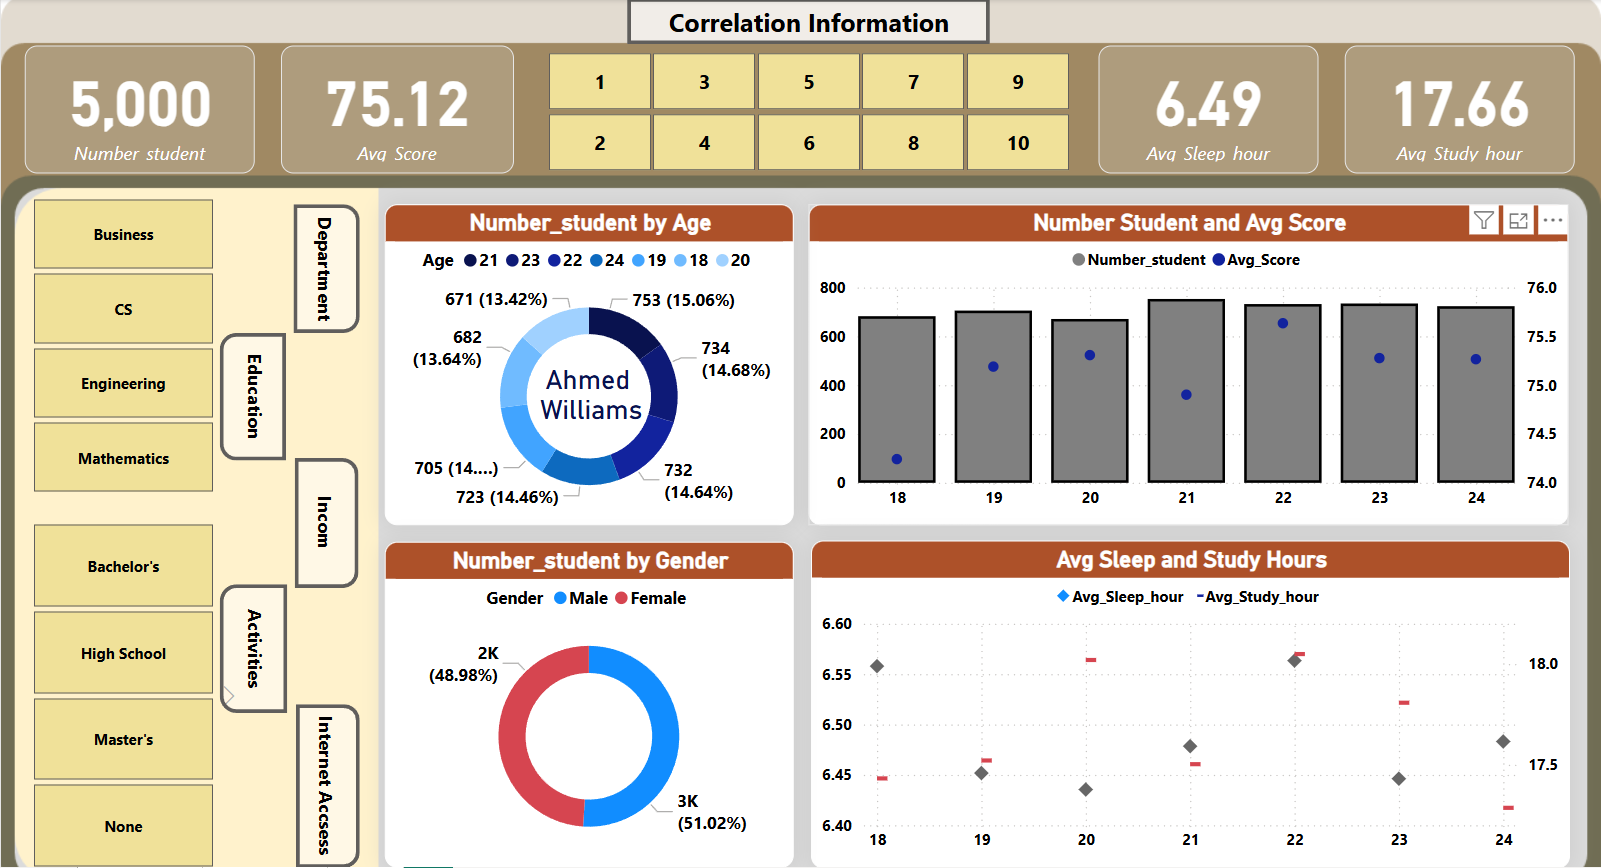

The page's visual inventory and layout, read from the dashboard file:
{"tool":"powerbi","page":{"name":"Dashboard","canvas":[1280,720],"ordinal":0},"visuals":[{"type":"slicer","title":"stress","fields":{"Values":["Main_data.Stress_Level (1-10)"]},"box":[412.4,36.7,466.5,108.2],"z":0,"group":"g1"},{"type":"card","fields":{"Values":["Main_data.Avg_Score"]},"box":[224,37.9,186.1,101.9],"z":0},{"type":"slicer","title":"Department Slicer","fields":{"Values":["Main_data.Department"]},"box":[0,154.1,193.2,247.7],"z":1000},{"type":"slicer","title":"Parent Education","fields":{"Values":["Main_data.Parent_Education_Level"]},"box":[0,413.6,193.2,288],"z":2000},{"type":"card","fields":{"Values":["Main_data.Number_student"]},"box":[19,37.9,183.7,101.9],"z":3000},{"type":"card","fields":{"Values":["Main_data.Avg_Sleep_hour"]},"box":[878.2,37.9,175.4,101.9],"z":4000},{"type":"card","fields":{"Values":["Main_data.Avg_Study_hour"]},"box":[1075,37.9,183.7,101.9],"z":5000},{"type":"group","id":"g1","title":"Stress level","box":[412.4,36.7,466.5,108.2],"z":6000},{"type":"lineClusteredColumnComboChart","title":"Number Student and Avg Score","fields":{"Category":["Main_data.Age"],"Y":["Main_data.Number_student"],"Y2":["Main_data.Avg_Score"]},"box":[645.9,164.7,608,257.2],"z":7000},{"type":"lineChart","title":"Avg Sleep and Study Hours","fields":{"Category":["Main_data.Age"],"Y":["Main_data.Avg_Sleep_hour"],"Y2":["Main_data.Avg_Study_hour"]},"box":[647.7,434,607.1,262.3],"z":8000},{"type":"donutChart","fields":{"Category":["Main_data.Age"],"Y":["Main_data.Number_student"]},"box":[307,164.7,327.1,257.2],"z":9000},{"type":"pieChart","fields":{"Category":["Main_data.Gender"],"Y":["Main_data.Number_student"]},"box":[306.9,435.4,327.2,261],"z":13000},{"type":"card","title":"Name Student","fields":{"Values":["Main_data.Name_student_largest_score"]},"box":[412.4,267.7,119,98.7],"z":16000},{"type":"actionButton","title":"Department button","box":[233.9,165,52.7,102.8],"z":17000},{"type":"actionButton","title":"Education button","box":[175.5,268.2,52.7,101.8],"z":20000},{"type":"actionButton","title":"Income","box":[234.5,368.2,51.8,103.6],"z":22000},{"type":"actionButton","title":"Activities","box":[175.1,468.7,53.6,103.1],"z":24000},{"type":"actionButton","title":"Internet Access","box":[235.8,564.7,50.8,131.3],"z":26000},{"type":"actionButton","title":"Move next","box":[501.1,0,290,36.7],"z":27000}]}

Visuals, with their boxes on the page's 1280x720 design canvas (x1, y1, x2, y2). These are canvas units, not pixel positions in the 1601x868 screenshot, which may show the page scaled, cropped or inside an application window:
"stress" slicer: (412,37,879,145)
card - Main_data.Avg_Score: (224,38,410,140)
"Department Slicer" slicer: (0,154,193,402)
"Parent Education" slicer: (0,414,193,702)
card - Main_data.Number_student: (19,38,203,140)
card - Main_data.Avg_Sleep_hour: (878,38,1054,140)
card - Main_data.Avg_Study_hour: (1075,38,1259,140)
"Stress level" group: (412,37,879,145)
"Number Student and Avg Score" lineClusteredColumnComboChart: (646,165,1254,422)
"Avg Sleep and Study Hours" lineChart: (648,434,1255,696)
donutChart - Main_data.Age x Main_data.Number_student: (307,165,634,422)
pieChart - Main_data.Gender x Main_data.Number_student: (307,435,634,696)
"Name Student" card: (412,268,531,366)
"Department button" actionButton: (234,165,287,268)
"Education button" actionButton: (176,268,228,370)
"Income" actionButton: (234,368,286,472)
"Activities" actionButton: (175,469,229,572)
"Internet Access" actionButton: (236,565,287,696)
"Move next" actionButton: (501,0,791,37)
